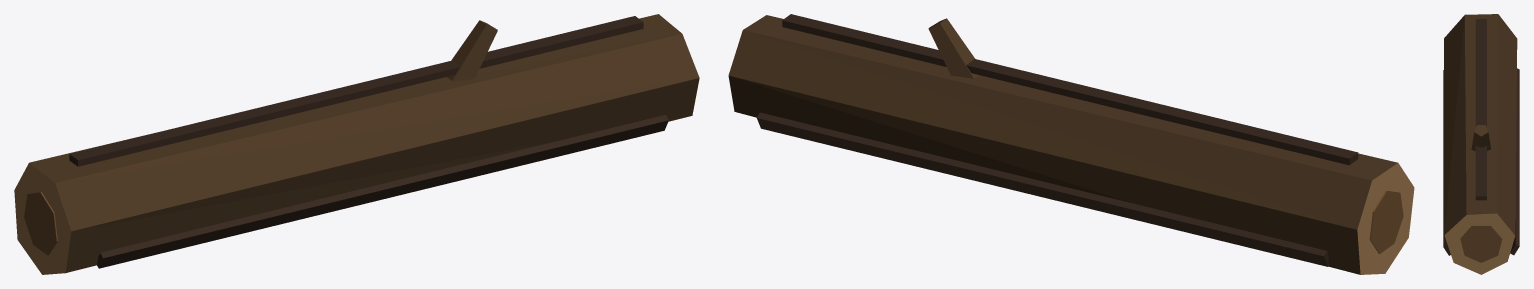
The model's file is dk_log.glb.
3 views of the same model, side by side, from view 1: azimuth 30°, elevation 25°; view 2: azimuth 150°, elevation 25°; view 3: azimuth 270°, elevation 25° (orthographic). The views are drawn at different scales.
Visible parts, largest first — view 1: dk_log; view 2: dk_log; view 3: dk_log.
Boxes of the visible parts, box(x1,y1,x2,y2) form: dk_log: box(14, 14, 699, 274); dk_log: box(728, 14, 1414, 274); dk_log: box(1443, 14, 1519, 274).
Bounding box in the file's own units: 5.03 × 1.1 × 0.8171.
Materials: 1 (1 with a texture image).
